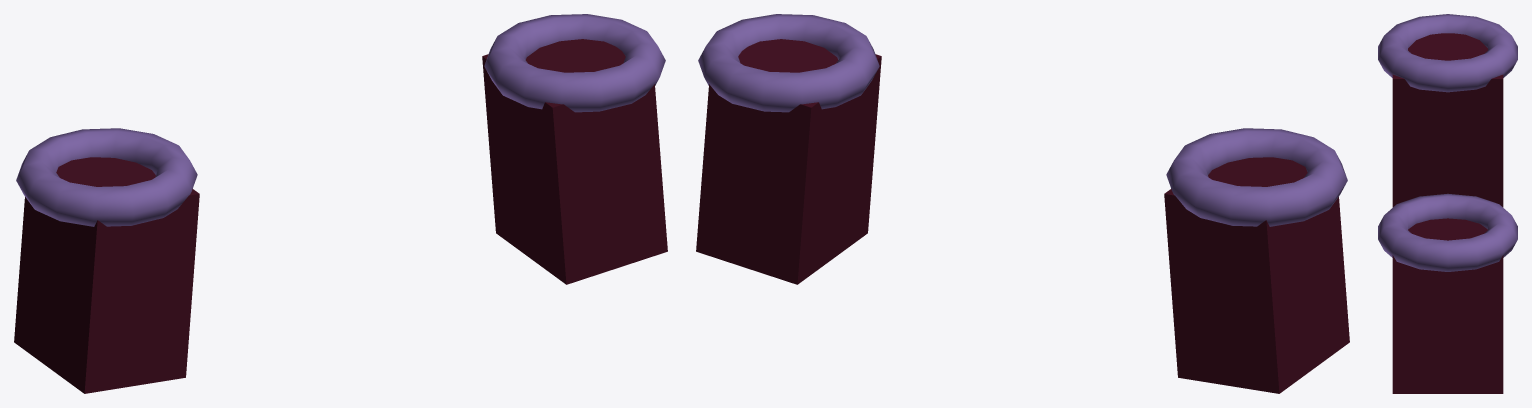
Rendered from hands.glb.
The picture shows the model from 3 angles, left to right: view 1: azimuth 30°, elevation 25°; view 2: azimuth 150°, elevation 25°; view 3: azimuth 270°, elevation 25°; orthographic projection. The views are drawn at different scales.
Parts seen in each view (by area): view 1: gauntlet_-1, gauntlet_1, cuff_-1, cuff_1; view 2: gauntlet_-1, gauntlet_1, cuff_-1, cuff_1; view 3: gauntlet_1, gauntlet_-1, cuff_1, cuff_-1.
Part boxes in pixels (x1,y1,x2,y2): gauntlet_-1: [14, 157, 199, 393]; gauntlet_1: [482, 39, 667, 284]; cuff_-1: [16, 128, 197, 226]; cuff_1: [484, 14, 665, 112]; gauntlet_-1: [1164, 157, 1349, 393]; gauntlet_1: [696, 39, 881, 284]; cuff_-1: [1166, 128, 1347, 226]; cuff_1: [698, 14, 879, 112]; gauntlet_1: [1392, 218, 1503, 393]; gauntlet_-1: [1392, 33, 1503, 207]; cuff_1: [1378, 193, 1517, 271]; cuff_-1: [1378, 14, 1517, 92].
Bounding box in the file's own units: 1.23 × 0.3816 × 0.3022.
